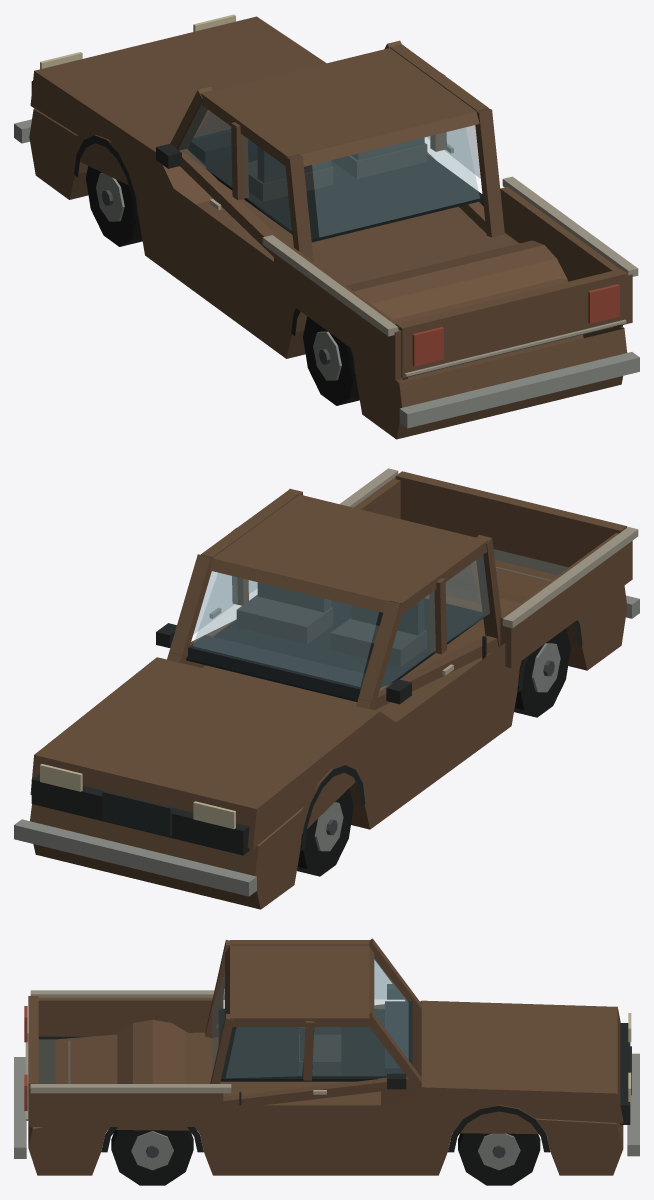
File: pickup_terre.glb
The picture shows the model from 3 angles, top to bottom: view 1: azimuth 30°, elevation 25°; view 2: azimuth 150°, elevation 25°; view 3: azimuth 270°, elevation 25°; orthographic projection. The views are drawn at different scales.
Parts seen in each view (by area): view 1: proposition_pickup_terre; view 2: proposition_pickup_terre; view 3: proposition_pickup_terre.
Boxes of the visible parts, x1,y1,x2,y2 form: proposition_pickup_terre: [14, 14, 639, 439]; proposition_pickup_terre: [14, 468, 639, 909]; proposition_pickup_terre: [14, 938, 639, 1185].
Bounding box in the file's own units: 2.02 × 1.6 × 5.49.
